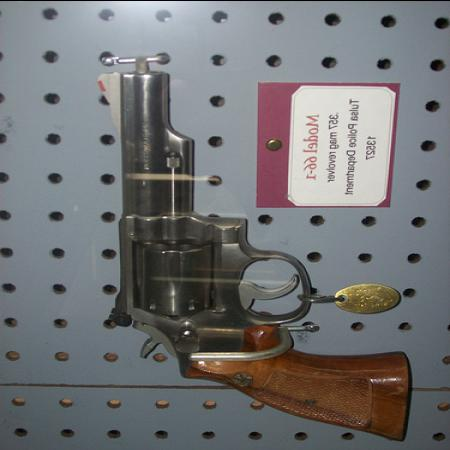Pistol: (102, 70, 409, 441)
